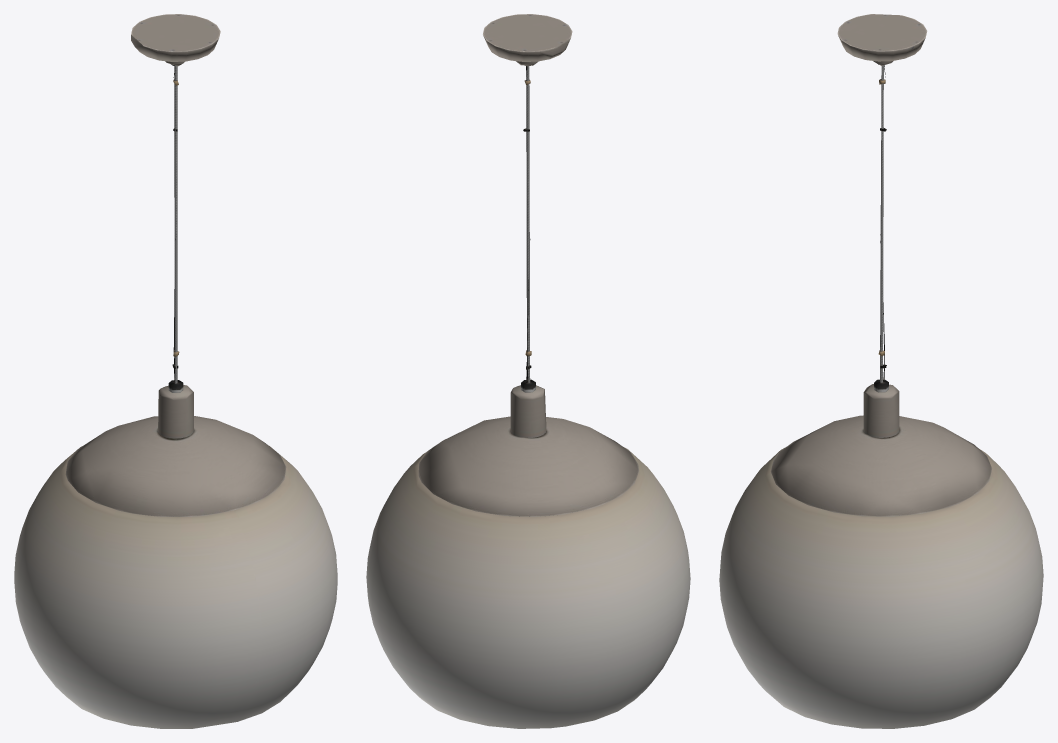
Rendered from modern_ceiling_lamp_01.glb.
3 views of the same model, side by side, from view 1: azimuth 30°, elevation 25°; view 2: azimuth 150°, elevation 25°; view 3: azimuth 270°, elevation 25° (orthographic).
Visible parts, largest first — view 1: modern_ceiling_lamp_01; view 2: modern_ceiling_lamp_01; view 3: modern_ceiling_lamp_01.
Boxes of the visible parts, bbox=[...] form: modern_ceiling_lamp_01: bbox=[14, 14, 337, 728]; modern_ceiling_lamp_01: bbox=[366, 14, 690, 728]; modern_ceiling_lamp_01: bbox=[719, 14, 1043, 728].
Size of the model in its own units: 0.4316 by 0.9512 by 0.4317.
Materials: 3 (3 with a texture image).
